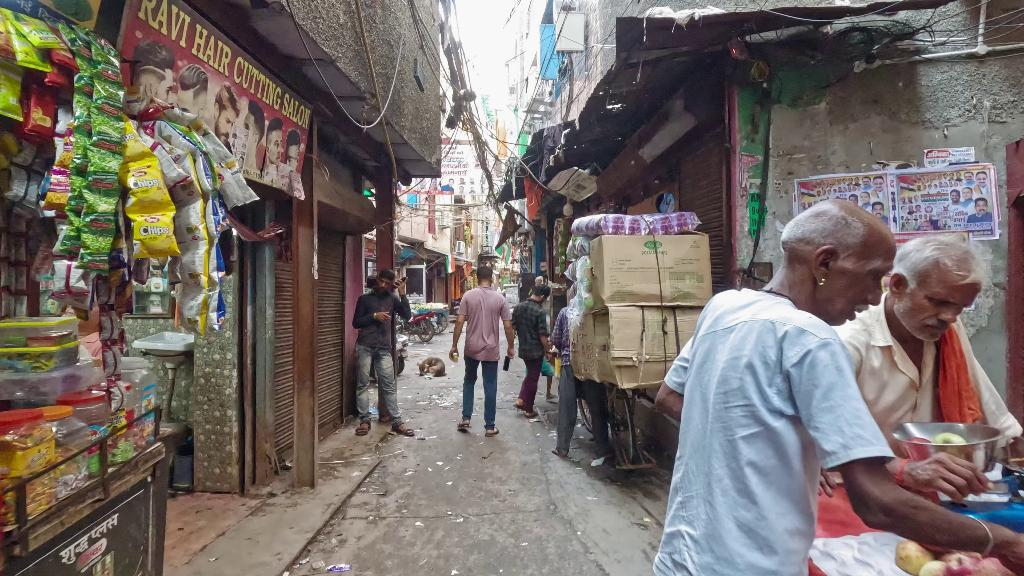garbage: (126, 213, 183, 259), (177, 284, 207, 337), (176, 202, 210, 245)
